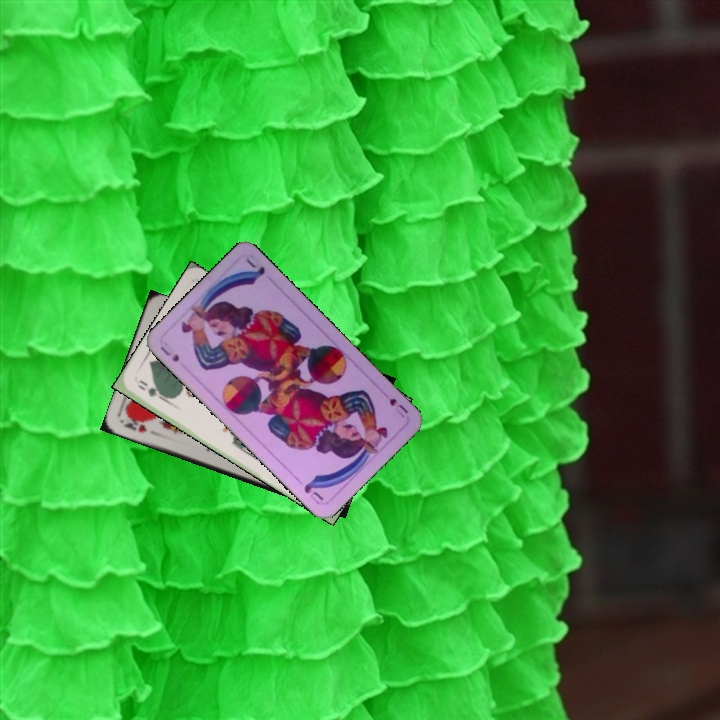GO: (134, 381, 170, 404)
HK: (119, 413, 149, 435)
SU: (378, 388, 411, 420), (156, 342, 182, 364)
